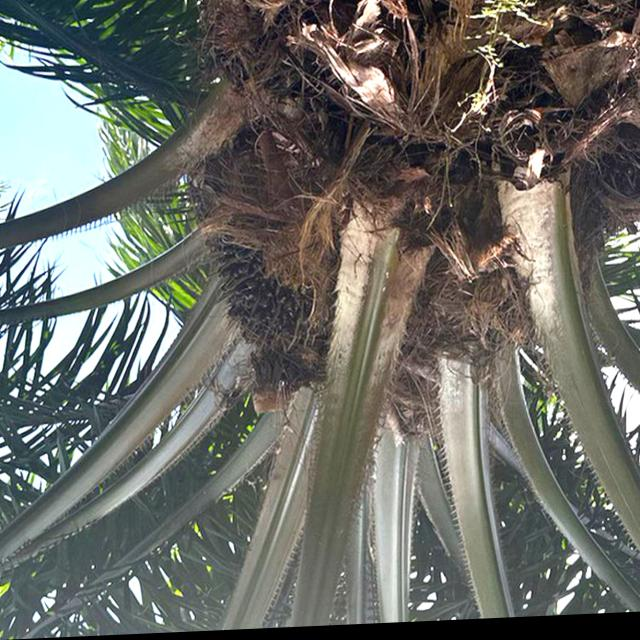almost: (205, 214, 344, 366)
